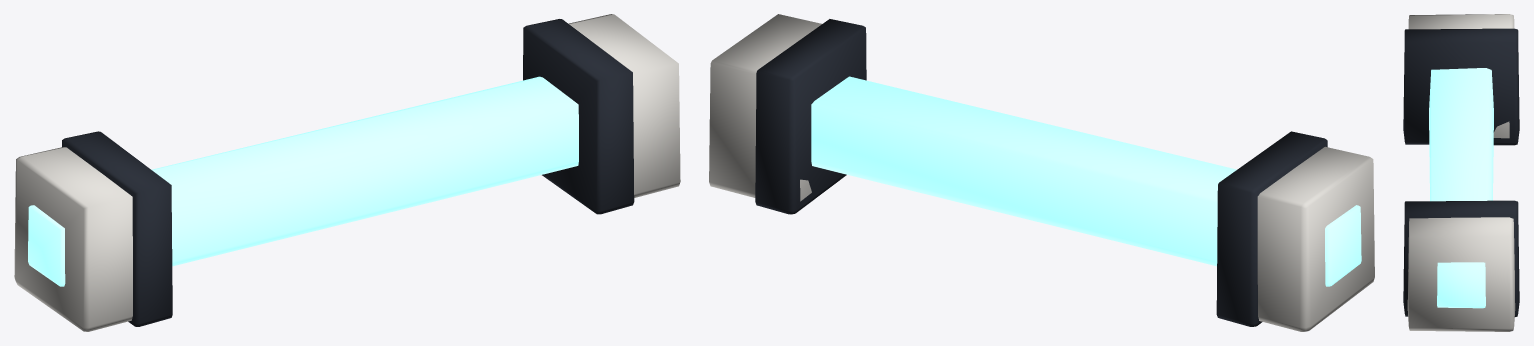
File: OBJ24_list_cyan_beam_link.glb
3 views of the same model, side by side, from view 1: azimuth 30°, elevation 25°; view 2: azimuth 150°, elevation 25°; view 3: azimuth 270°, elevation 25° (orthographic). The views are drawn at different scales.
Parts seen in each view (by area): view 1: EnergyBeam, CollarWhite_-1, CollarBand_1, CollarWhite_1, CollarBand_-1, SocketCore_-1; view 2: EnergyBeam, CollarWhite_-1, CollarBand_1, CollarWhite_1, CollarBand_-1, SocketCore_-1; view 3: CollarWhite_1, EnergyBeam, CollarBand_-1, CollarBand_1, SocketCore_1, CollarWhite_-1.
Boxes of the visible parts, box(x1,y1,x2,y2) form: EnergyBeam: box(151, 76, 578, 266); CollarWhite_-1: box(14, 147, 132, 331); CollarBand_1: box(523, 19, 634, 214); CollarWhite_1: box(568, 14, 680, 197); CollarBand_-1: box(62, 131, 172, 326); SocketCore_-1: box(28, 205, 65, 286); EnergyBeam: box(811, 76, 1236, 266); CollarWhite_-1: box(1257, 146, 1374, 331); CollarBand_1: box(755, 19, 866, 214); CollarWhite_1: box(709, 14, 821, 201); CollarBand_-1: box(1216, 131, 1327, 326); SocketCore_-1: box(1325, 205, 1361, 286); CollarWhite_1: box(1407, 217, 1515, 331); EnergyBeam: box(1429, 68, 1493, 201); CollarBand_-1: box(1403, 28, 1519, 145); CollarBand_1: box(1403, 200, 1519, 316); SocketCore_1: box(1437, 262, 1485, 308); CollarWhite_-1: box(1408, 14, 1514, 138).
Bounding box in the file's own units: 1.48 × 0.32 × 0.32.
